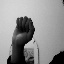a: (10, 15, 37, 48)
